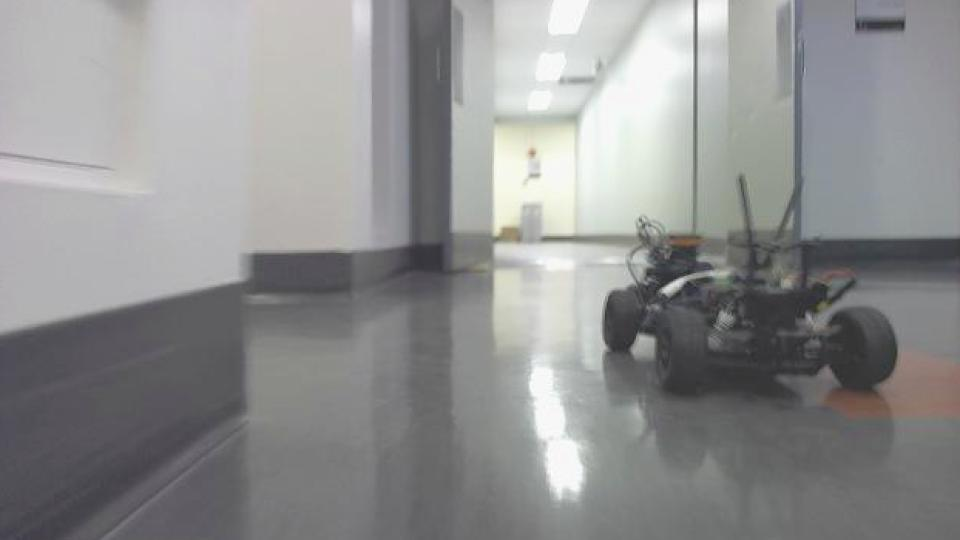car: (599, 173, 903, 398)
